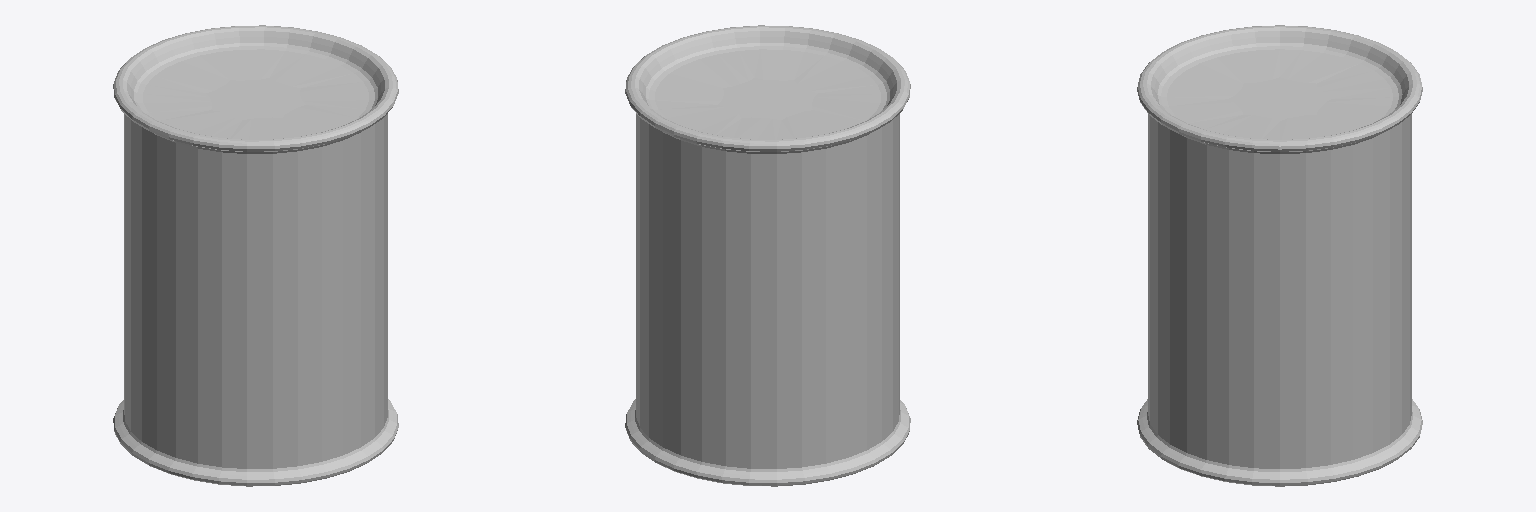
The model's file is LataSopa1_5x2.obj.
The picture shows the model from 3 angles: view 1: azimuth 30°, elevation 25°; view 2: azimuth 150°, elevation 25°; view 3: azimuth 270°, elevation 25°; orthographic projection.
Visible parts, largest first — view 1: LataSopa_LataSopa; view 2: LataSopa_LataSopa; view 3: LataSopa_LataSopa.
Boxes of the visible parts, x1,y1,x2,y2 form: LataSopa_LataSopa: [113, 25, 398, 486]; LataSopa_LataSopa: [625, 25, 910, 486]; LataSopa_LataSopa: [1137, 25, 1422, 486].
Size of the model in its own units: 1.5 by 2 by 1.5.